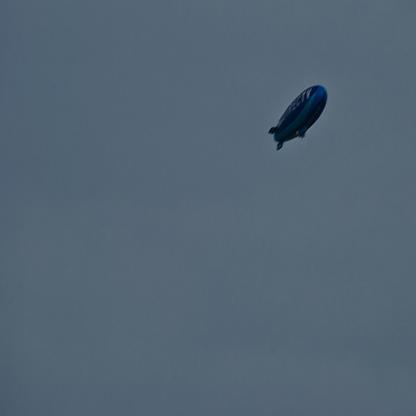Airship: (267, 83, 329, 157)
